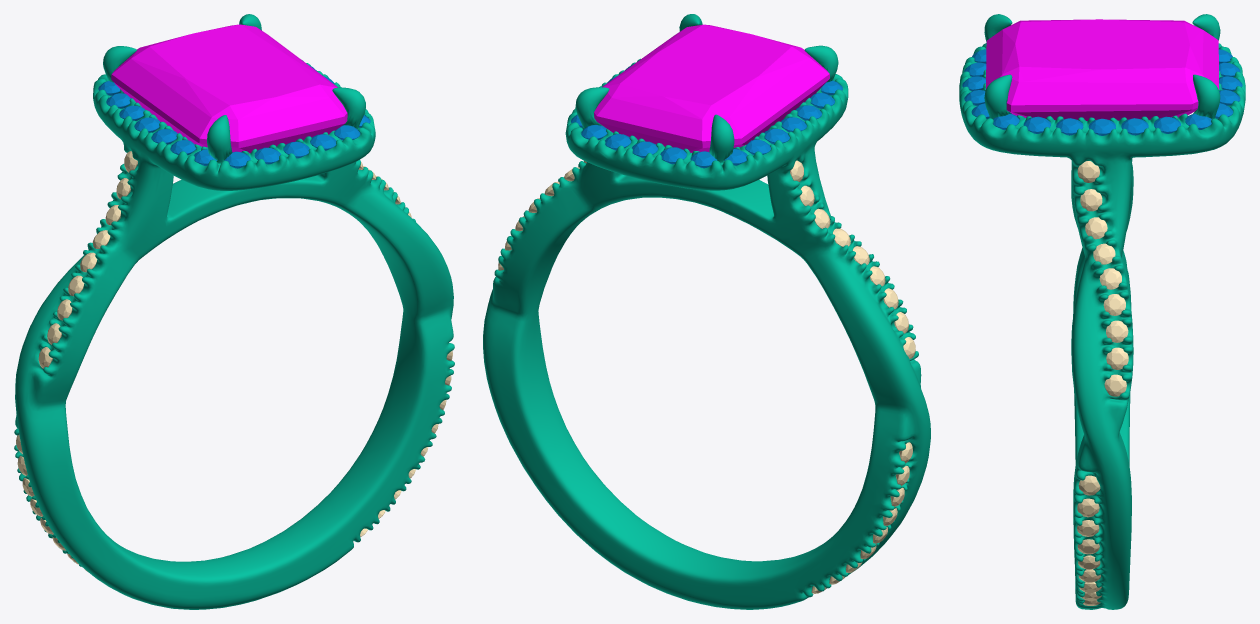
File: BE1M54DH_RA_200ct_RENDER.glb
3 renders of one model, left to right at view 1: azimuth 30°, elevation 25°; view 2: azimuth 150°, elevation 25°; view 3: azimuth 270°, elevation 25°, orthographic.
Parts seen in each view (by area): view 1: Metal 01, CS_Diamond_Radiant; view 2: Metal 01, CS_Diamond_Radiant; view 3: Metal 01, CS_Diamond_Radiant, Diamond_Round_Gem_SH.034, Diamond_Round_Gem_SH.028.
Boxes of the visible parts, x1=… form: Metal 01: x1=14, y1=14, x2=454, y2=609; CS_Diamond_Radiant: x1=111, y1=24, x2=347, y2=153; Metal 01: x1=483, y1=14, x2=930, y2=609; CS_Diamond_Radiant: x1=594, y1=24, x2=829, y2=152; Metal 01: x1=959, y1=14, x2=1245, y2=609; CS_Diamond_Radiant: x1=986, y1=19, x2=1218, y2=120; Diamond_Round_Gem_SH.034: x1=1080, y1=189, x2=1102, y2=211; Diamond_Round_Gem_SH.028: x1=1106, y1=347, x2=1128, y2=369.
Size of the model in its own units: 20.52 by 24.1 by 11.54.
